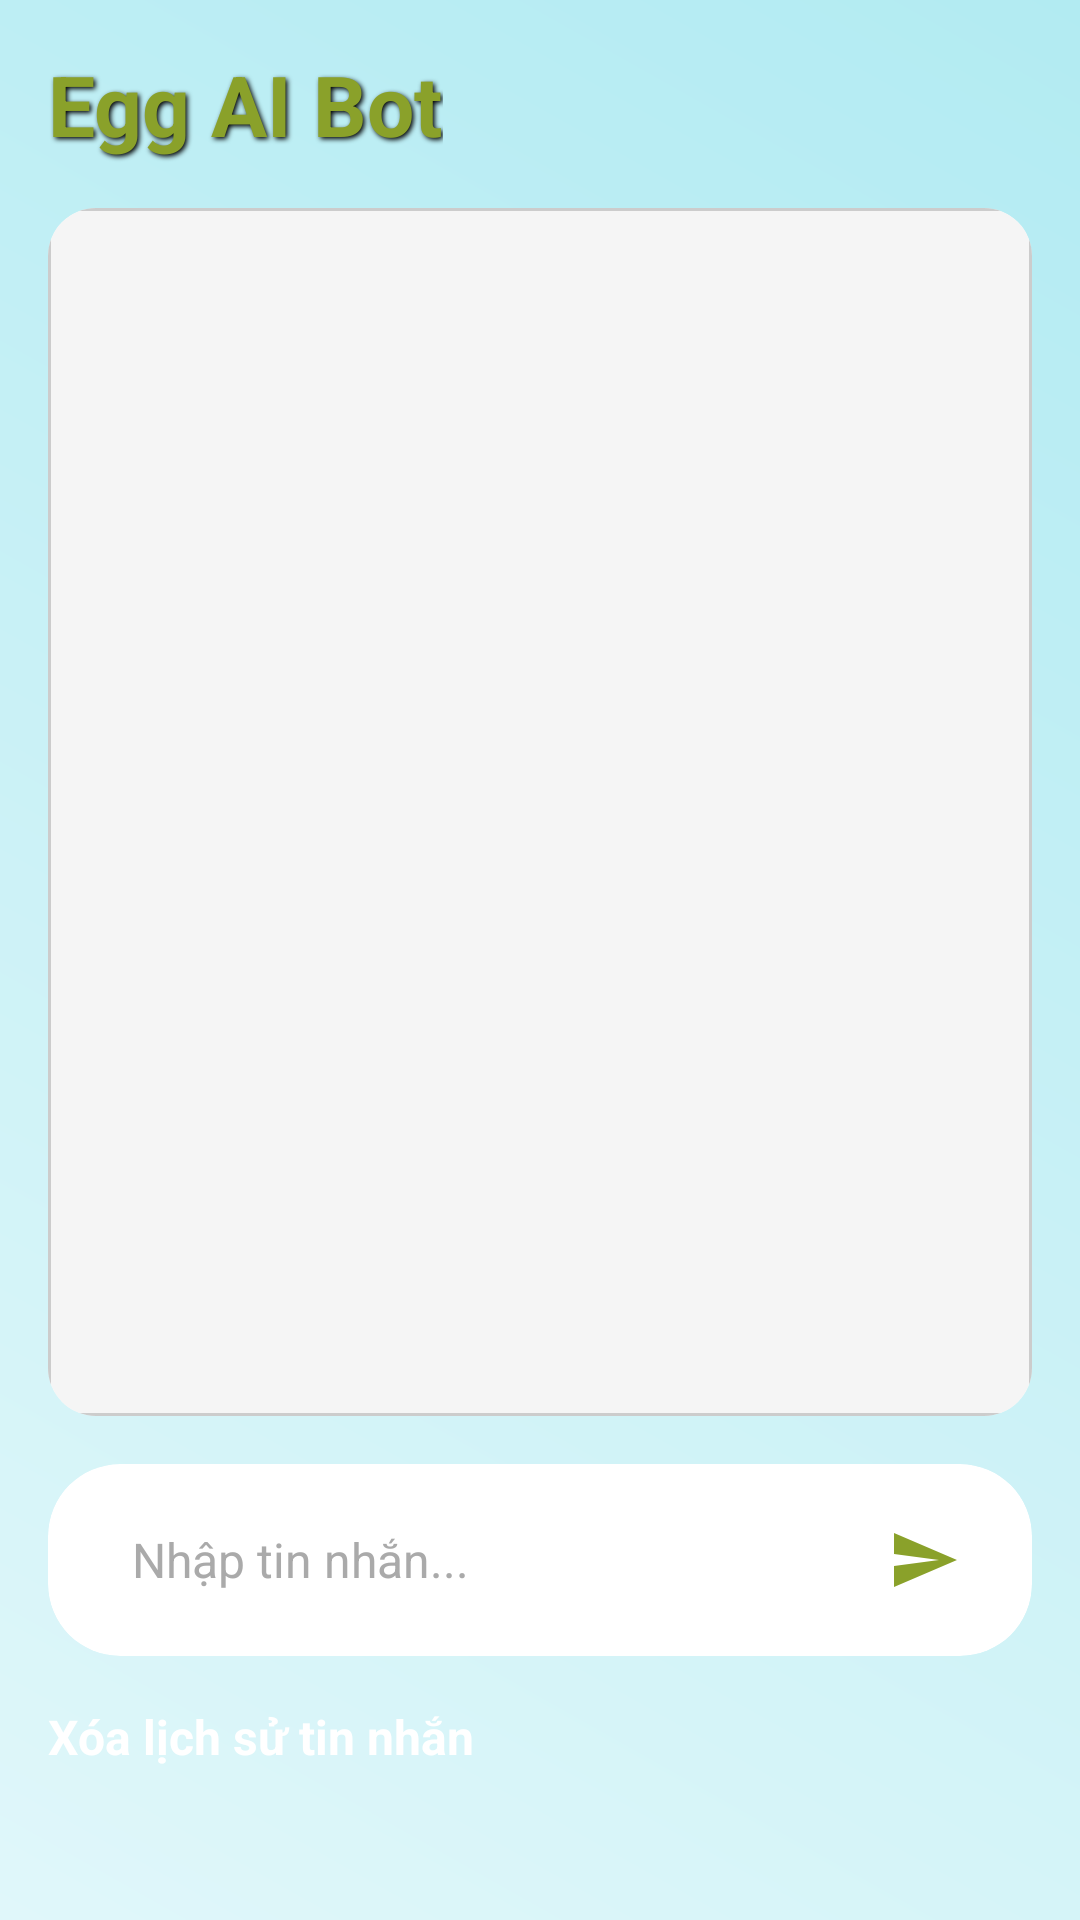

Icon click points for this 1080px x 1920px phone screenshot, format (x=x, y=y):
Send Message: (x=925, y=1560)
